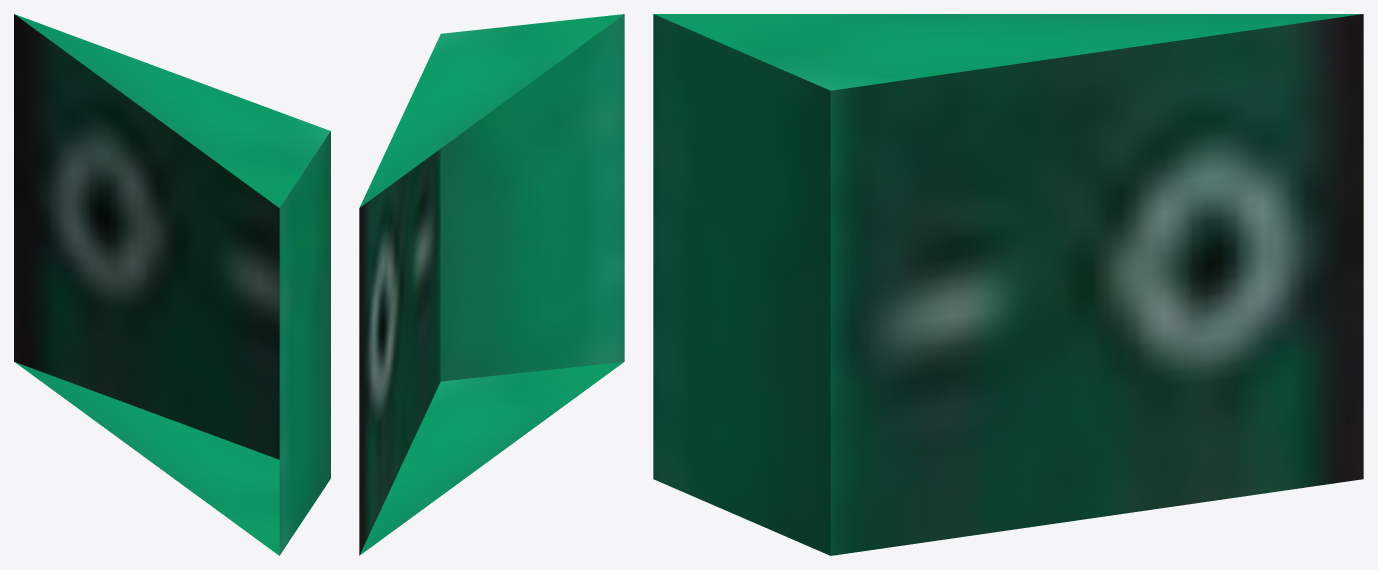
File: SM_恒温干燥箱电源开关.FBX
3 renders of one model, left to right at view 1: azimuth 30°, elevation 25°; view 2: azimuth 150°, elevation 25°; view 3: azimuth 270°, elevation 25°, orthographic. The views are drawn at different scales.
Parts seen in each view (by area): view 1: SM_恒温干燥箱电源开关; view 2: SM_恒温干燥箱电源开关; view 3: SM_恒温干燥箱电源开关.
Boxes of the visible parts, left/top/right/bottom form: SM_恒温干燥箱电源开关: left=14, top=14, right=330, bottom=555; SM_恒温干燥箱电源开关: left=359, top=14, right=624, bottom=555; SM_恒温干燥箱电源开关: left=653, top=14, right=1363, bottom=555.
Bounding box in the file's own units: 10.25 × 28.98 × 40.08.
